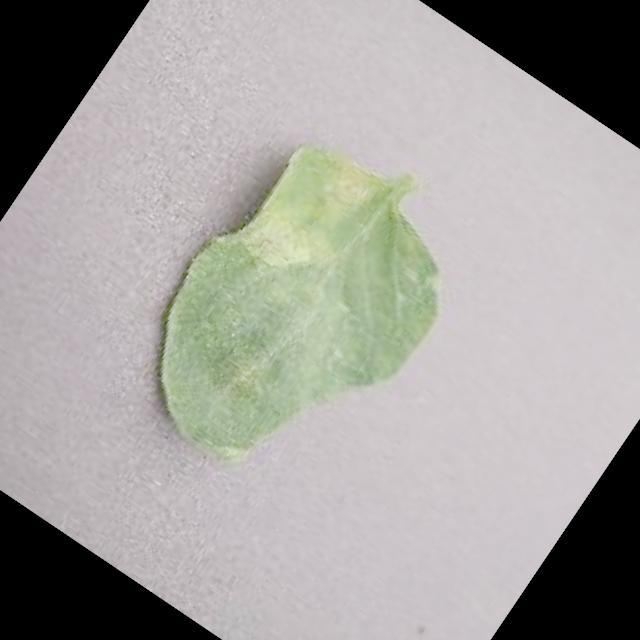Tomato late blight leaf: (102, 110, 495, 528)
